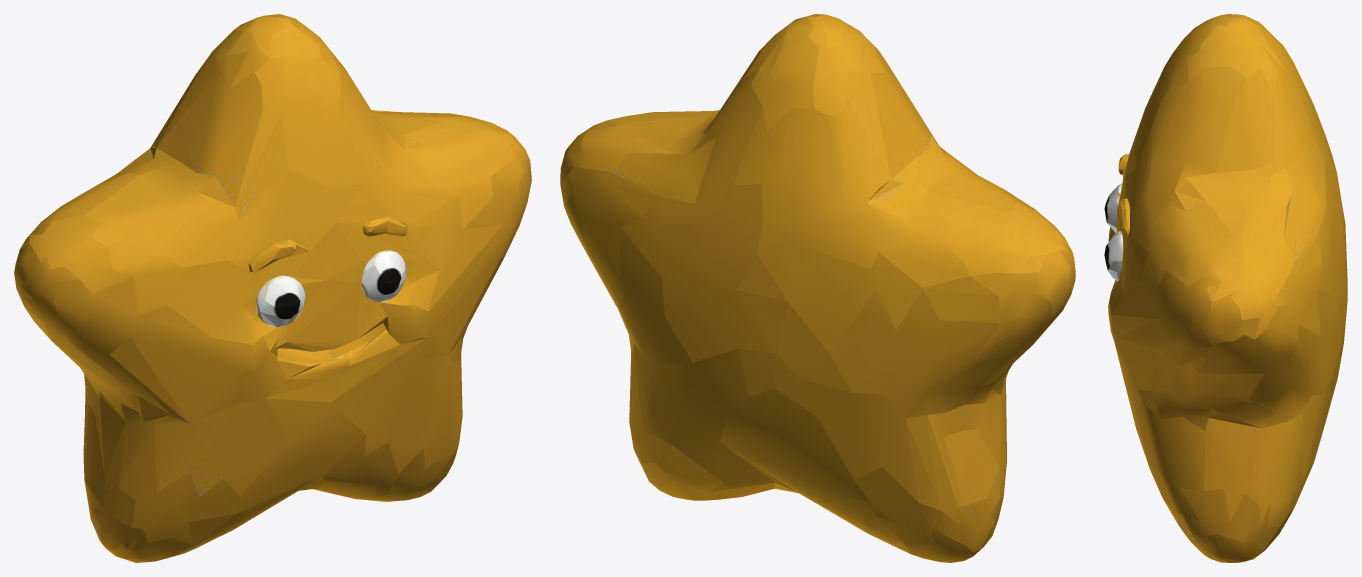
The model's file is star.glb.
The picture shows the model from 3 angles, left to right: view 1: azimuth 30°, elevation 25°; view 2: azimuth 150°, elevation 25°; view 3: azimuth 270°, elevation 25°; orthographic projection. The views are drawn at different scales.
Size of the model in its own units: 1.9 by 1.84 by 0.8457.
1 material, 1 textured.
